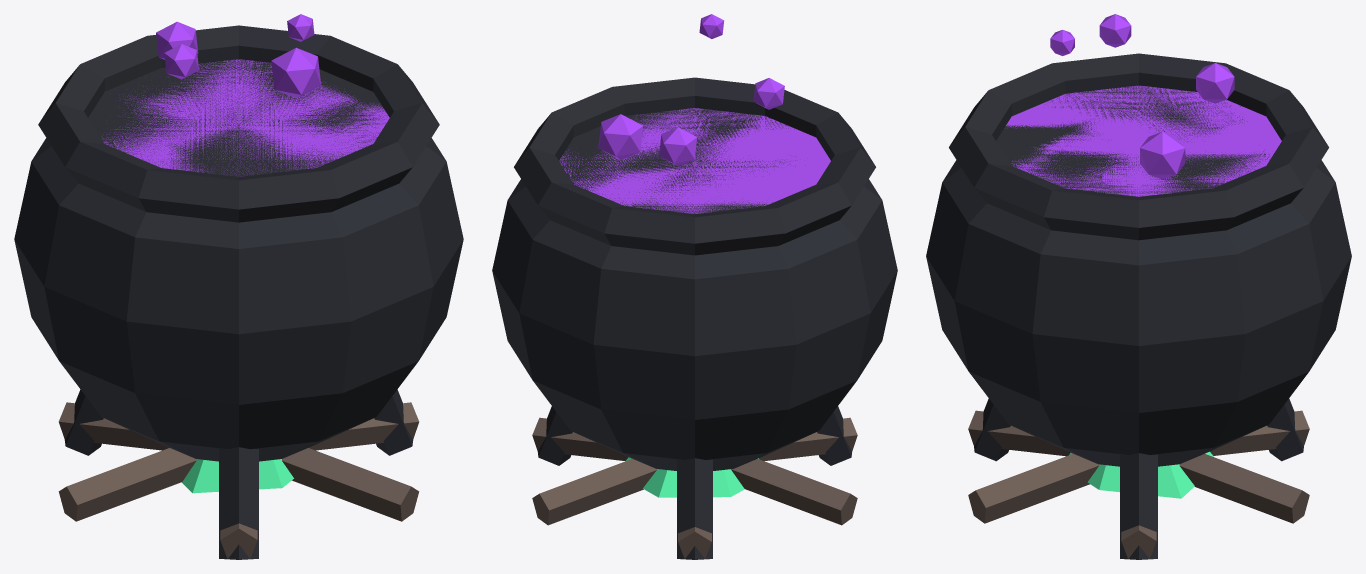
The model's file is WitchCauldron.fbx.
The picture shows the model from 3 angles, left to right: view 1: azimuth 30°, elevation 25°; view 2: azimuth 150°, elevation 25°; view 3: azimuth 270°, elevation 25°; orthographic projection. The views are drawn at different scales.
Parts seen in each view (by area): view 1: WitchCauldron, WitchCauldron_Glow; view 2: WitchCauldron, WitchCauldron_Glow; view 3: WitchCauldron, WitchCauldron_Glow.
Part boxes in pixels (x1=…): WitchCauldron: x1=14, y1=25, x2=463, y2=559; WitchCauldron_Glow: x1=101, y1=14, x2=389, y2=493; WitchCauldron: x1=492, y1=77, x2=897, y2=559; WitchCauldron_Glow: x1=559, y1=14, x2=830, y2=497; WitchCauldron: x1=926, y1=53, x2=1351, y2=559; WitchCauldron_Glow: x1=1006, y1=14, x2=1281, y2=498.
Bounding box in the file's own units: 320 × 390 × 320.
Materials: 1 (1 with a texture image).
